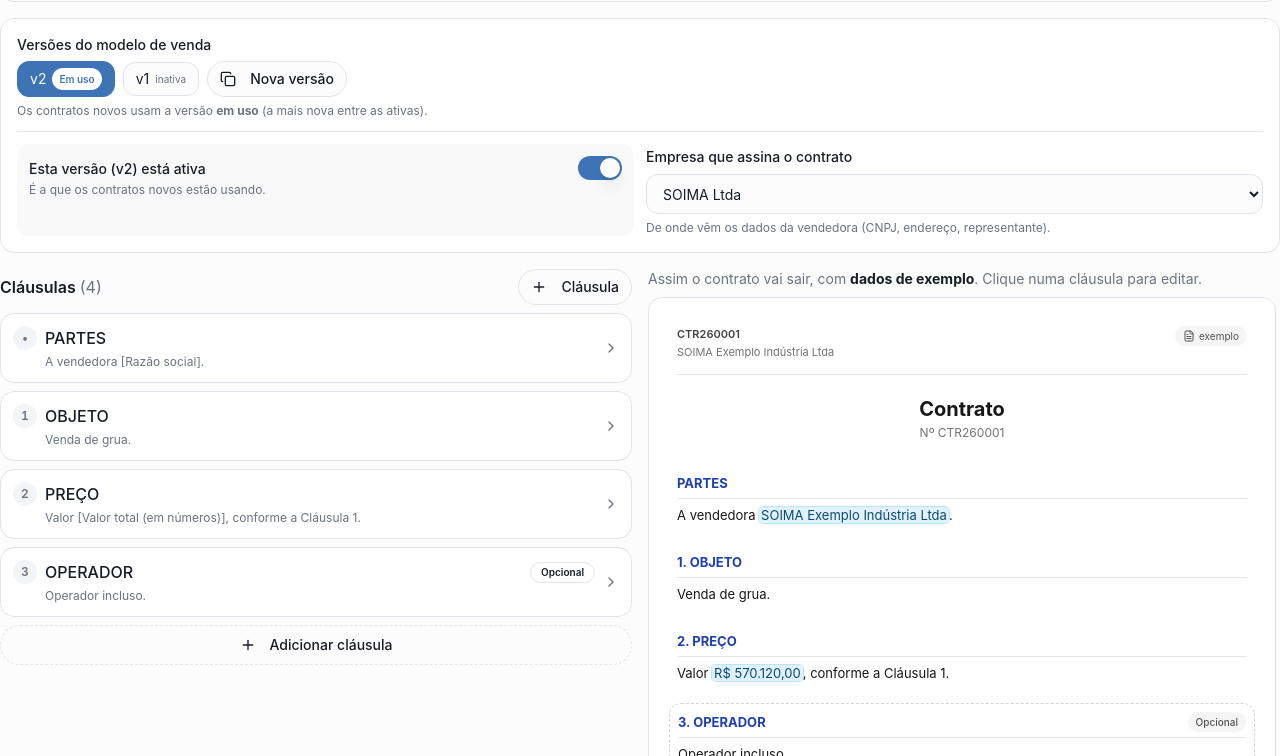
Test: editor do modelo — editar e salvar › Salvar grava só o que mudou, volta ao estado limpo e avisa
The image size is (1280, 756).
Expected: the heading "Cláusulas (4)" is shown, [0,275,102,299]
Step 1. Click the button with aria-label "Editar cláusula 1. OBJETO" → click(77, 416), box [1,392,631,460]
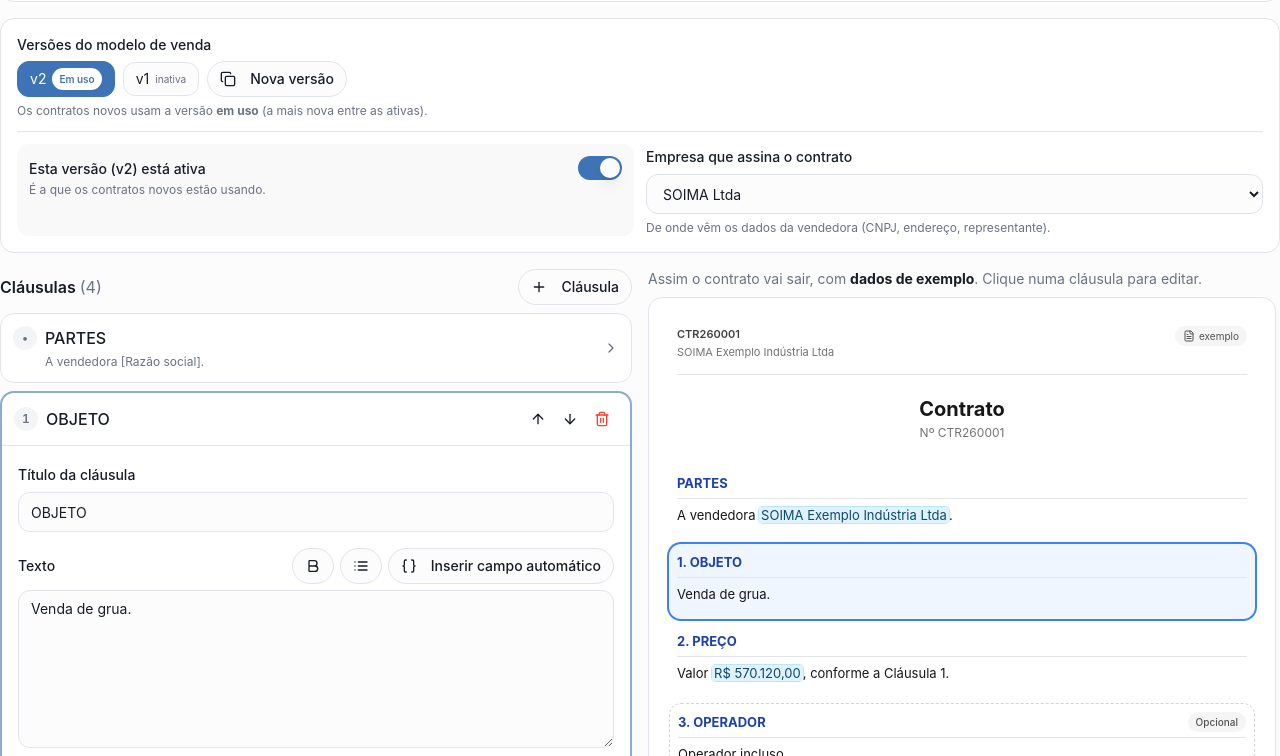
Step 2. Replace the text in the text box labelled "Texto" with "Novo objeto." → (316, 669), box [18,590,614,748]
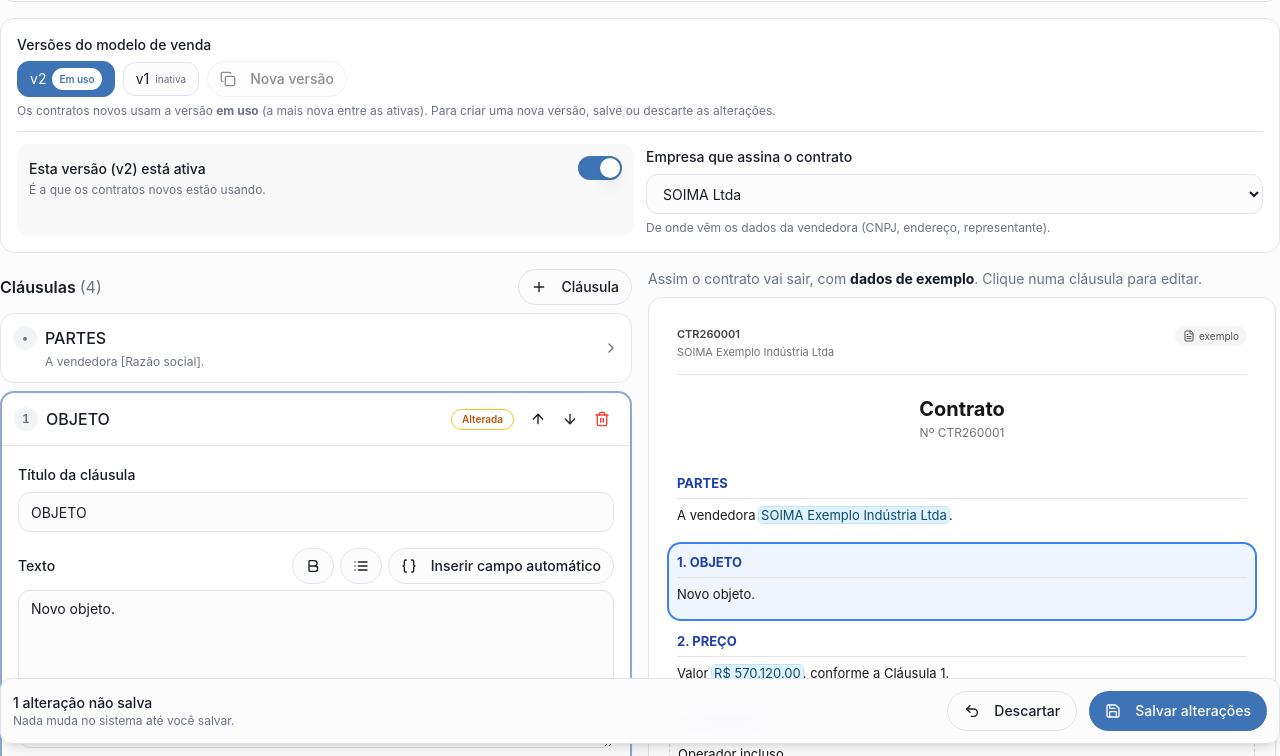
Step 3. Click the button "Salvar alterações" → click(1178, 711), box [1089,691,1267,731]
(page scrolled)
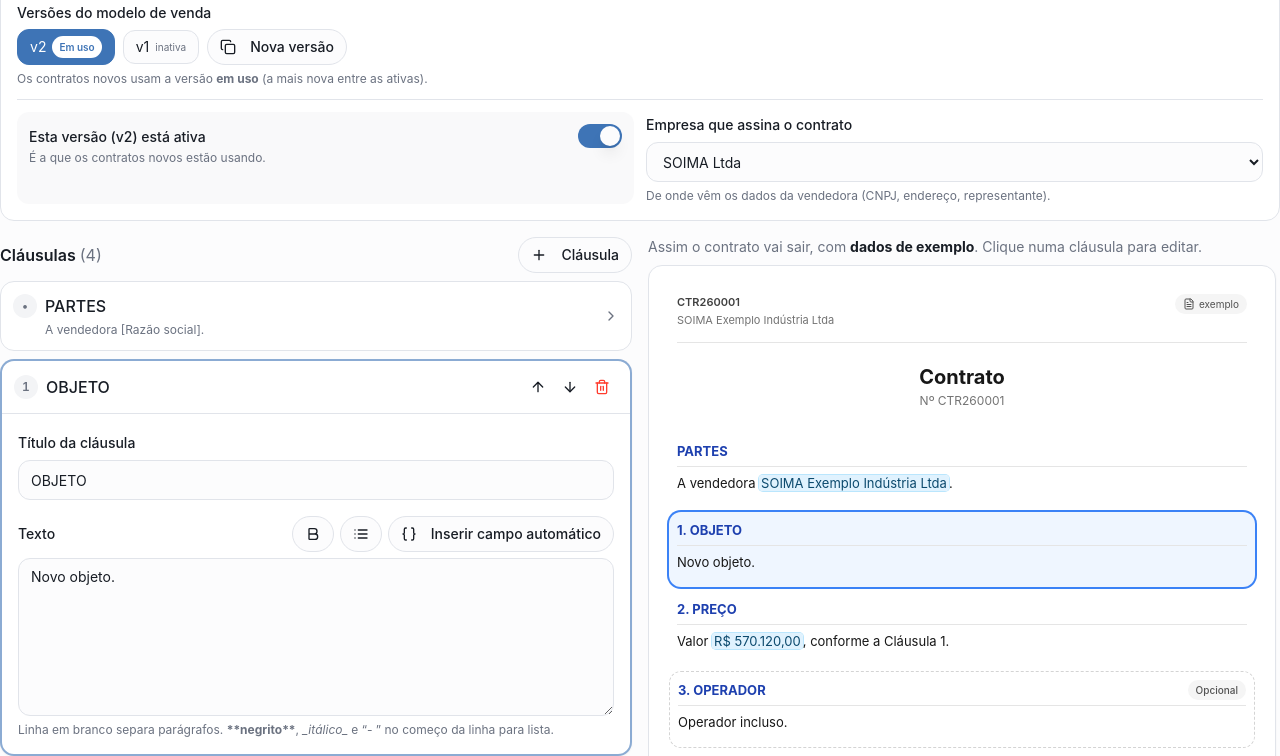
Expected: the text "Alterada" is gone
